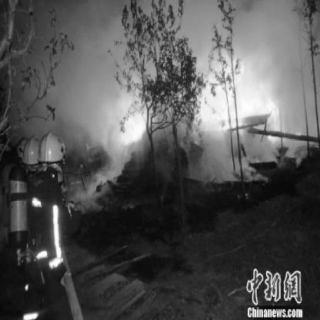Fire: (199, 58, 283, 144), (110, 90, 148, 142)
